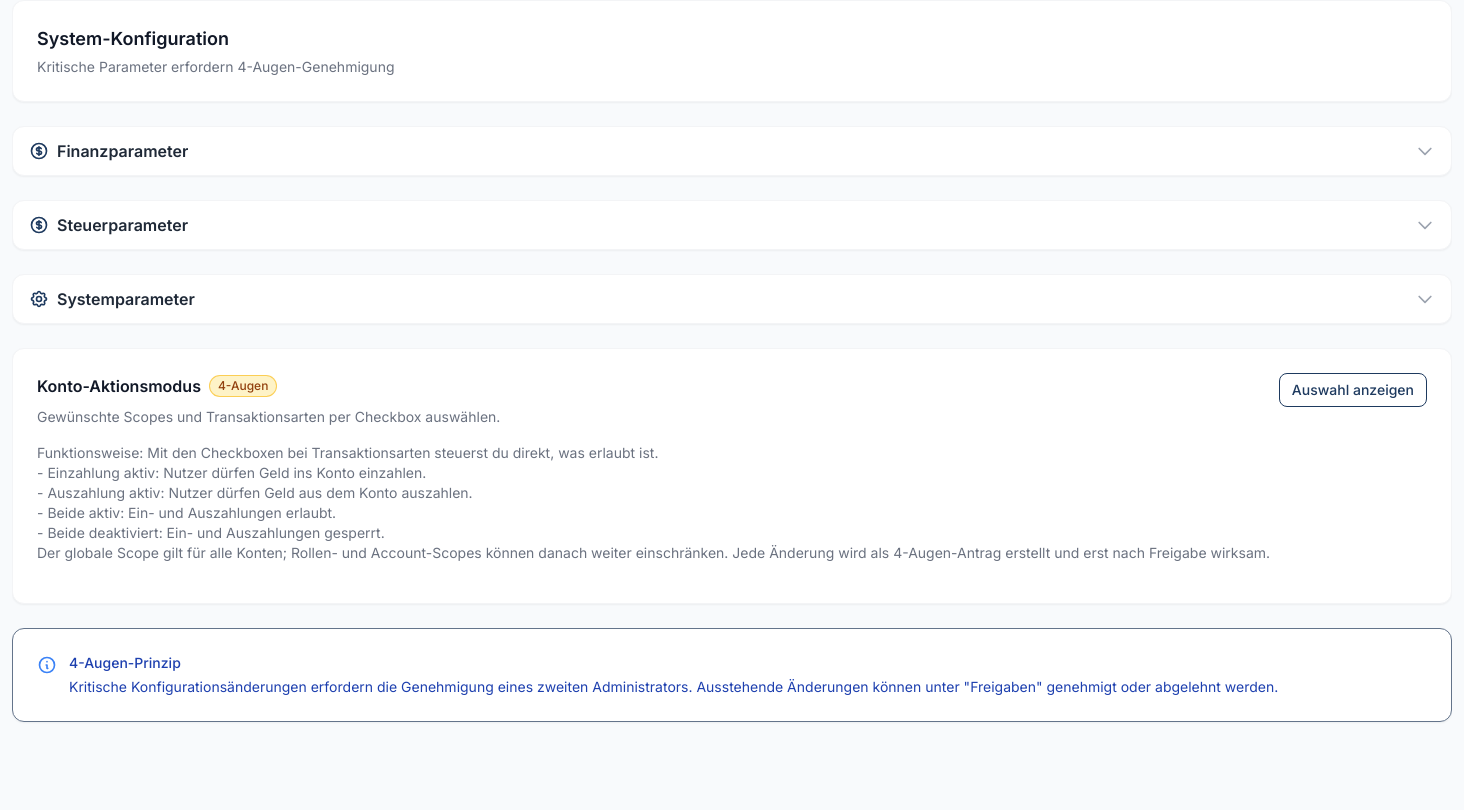
Test: ConfigurationPage (Steuerparameter integration) › shows expanded tax details when config already uses platform withholds
Click the button "Steuerparameter" at (123, 225), box [13,201,1451,249]
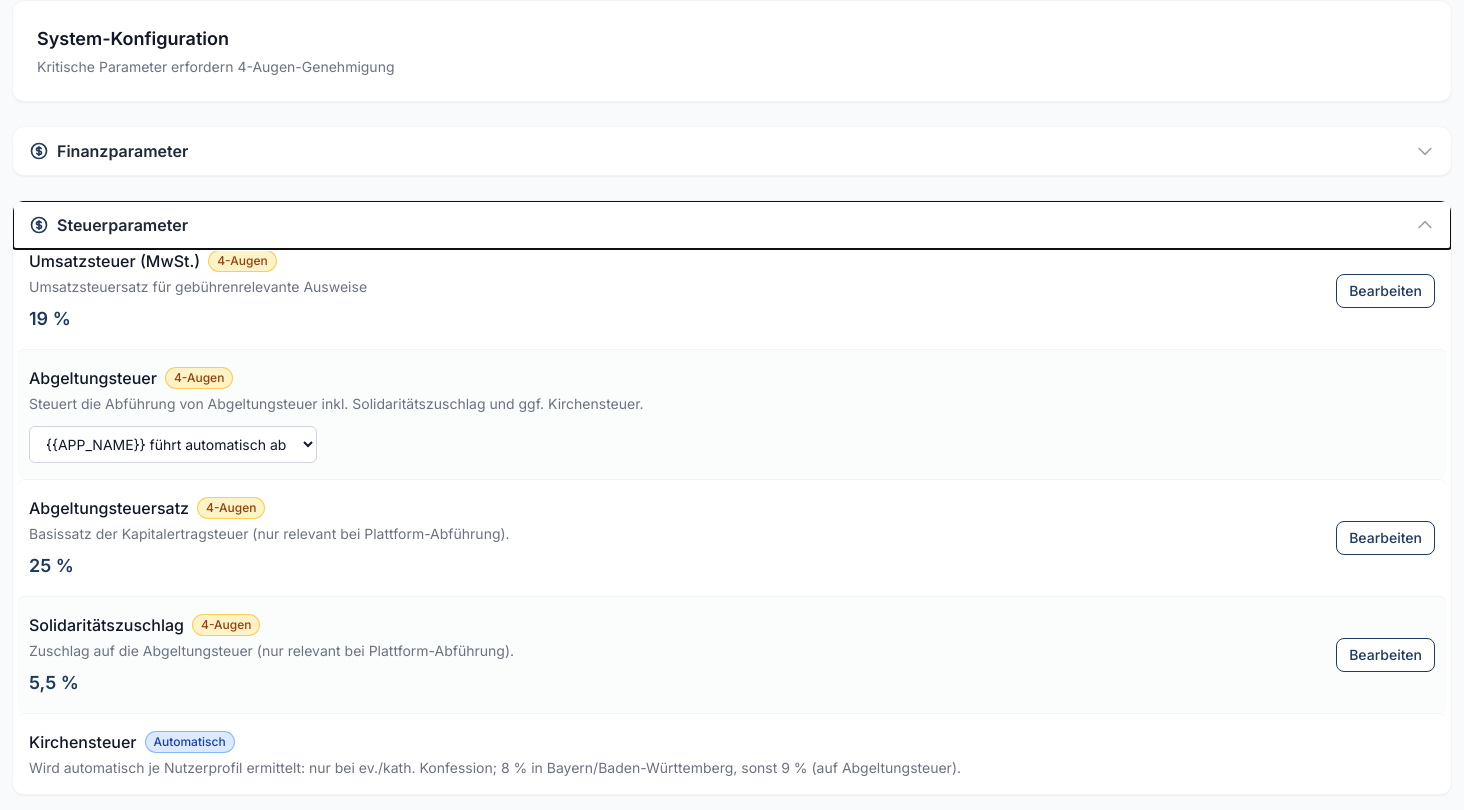
Result: the text "Abgeltungsteuer" is shown at [29,366,157,390]
Result: the text "Abgeltungsteuersatz" is shown at [29,496,189,520]
Result: the text "Kirchensteuer" is shown at [29,730,136,754]
